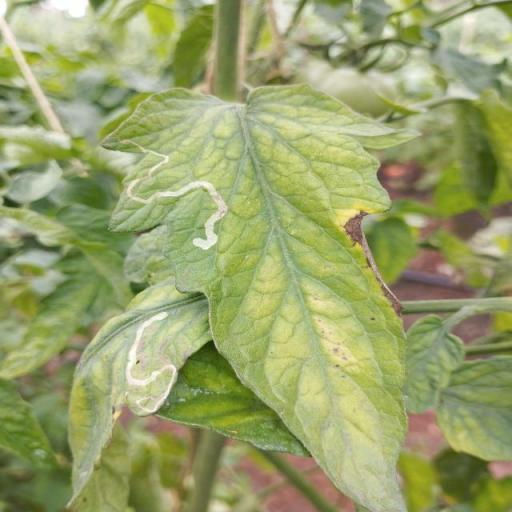Leaf Miner: (110, 86, 410, 512), (62, 277, 213, 512)
